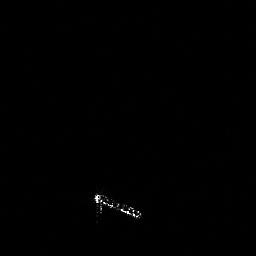ship: (90, 188, 145, 226)
